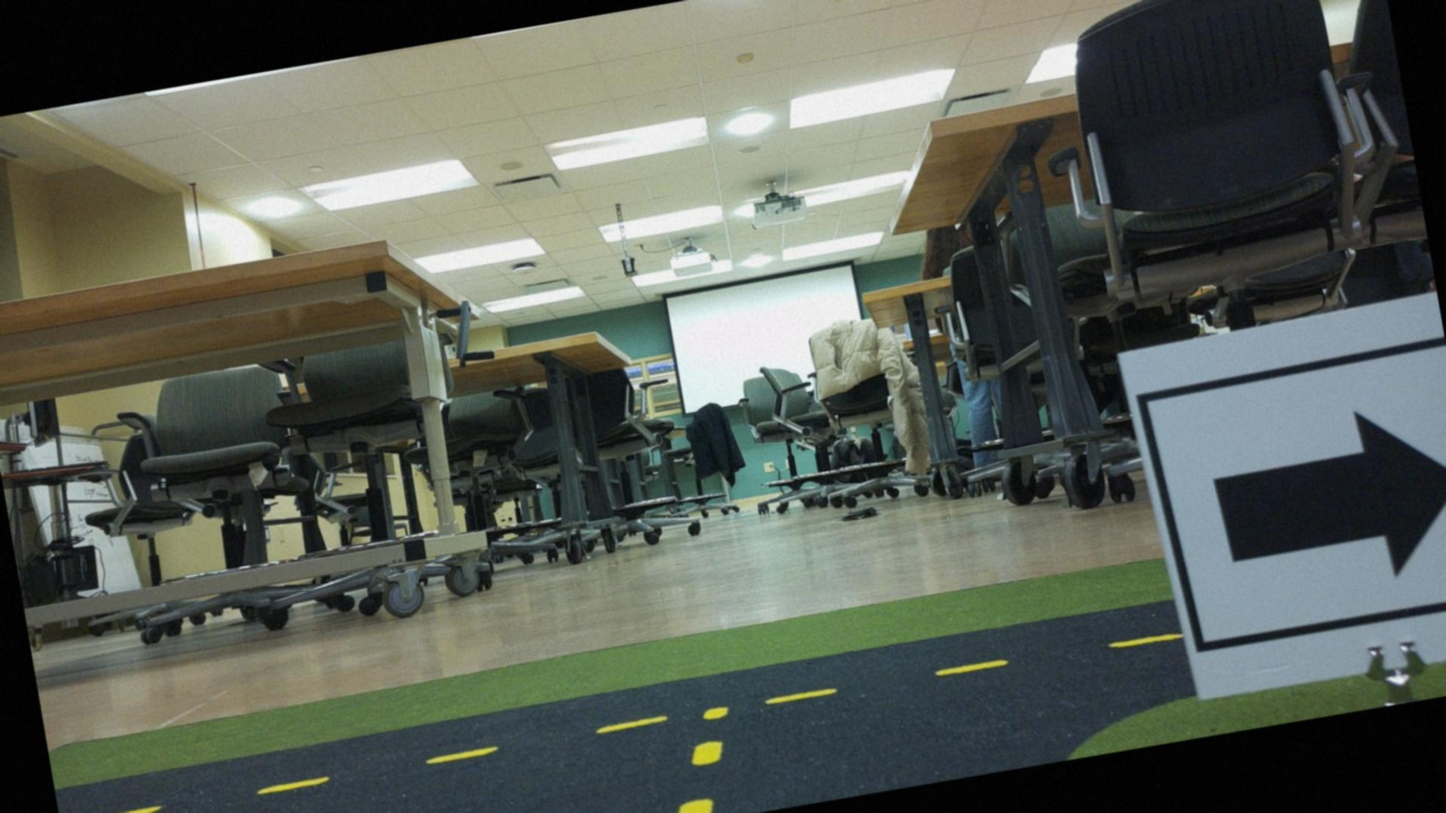turnleft: (1129, 297, 1445, 705)
yellowline: (87, 633, 1159, 812), (667, 740, 731, 812)
